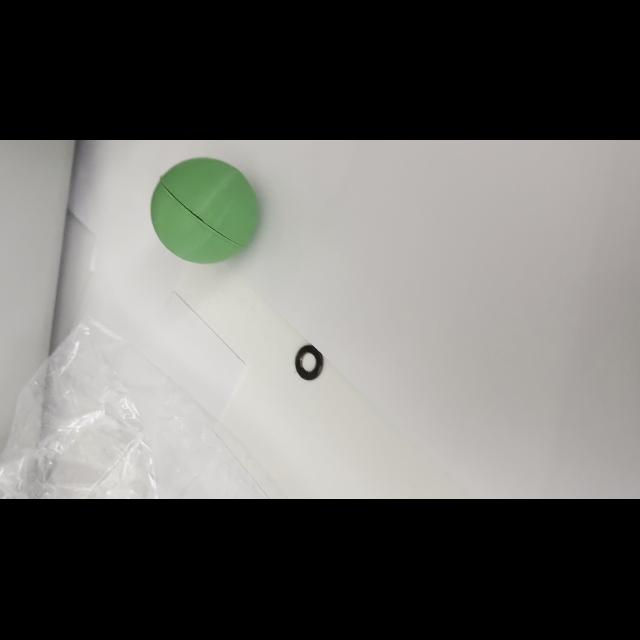objects: (149, 152, 263, 268)
